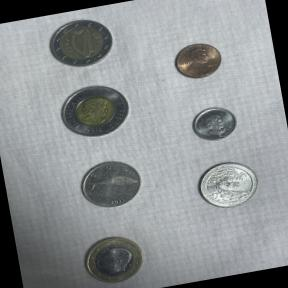coin: (50, 76, 140, 146), (40, 11, 121, 78), (72, 152, 147, 216), (76, 228, 153, 288), (190, 154, 264, 214), (165, 33, 228, 86), (182, 99, 242, 147)
